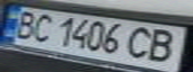0: (84, 19, 109, 53)
1: (51, 15, 75, 47)
4: (69, 16, 90, 51)
6: (103, 20, 127, 56)
B: (139, 26, 190, 64), (6, 8, 42, 39)
C: (124, 25, 163, 61), (24, 11, 57, 44)
